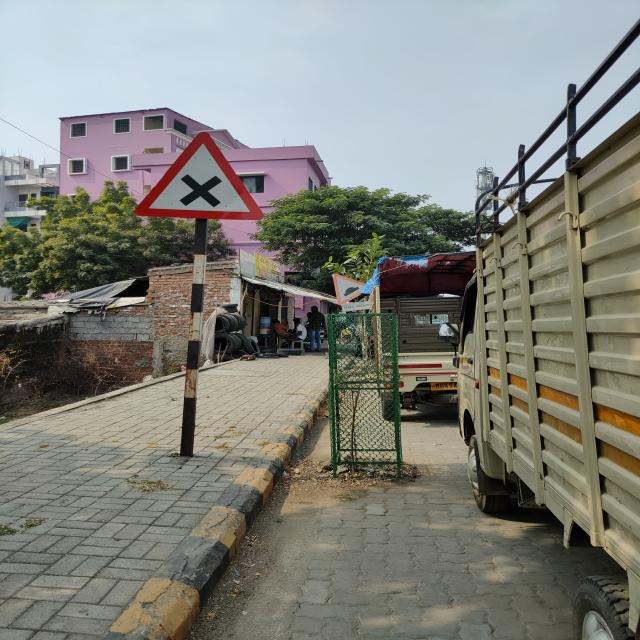cross_road: (133, 130, 266, 225)
